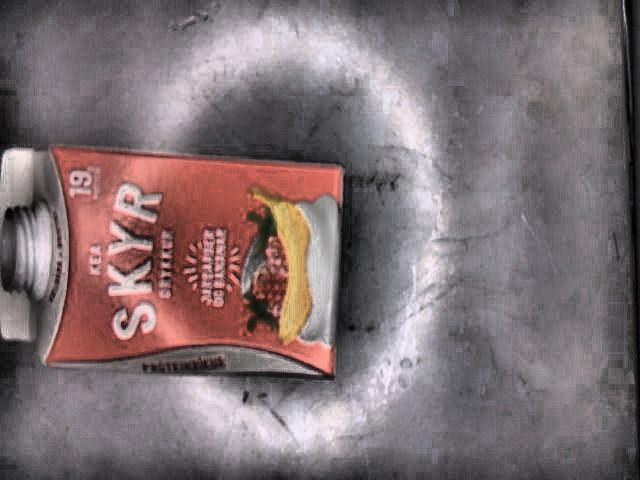Paper: (0, 145, 343, 381)
